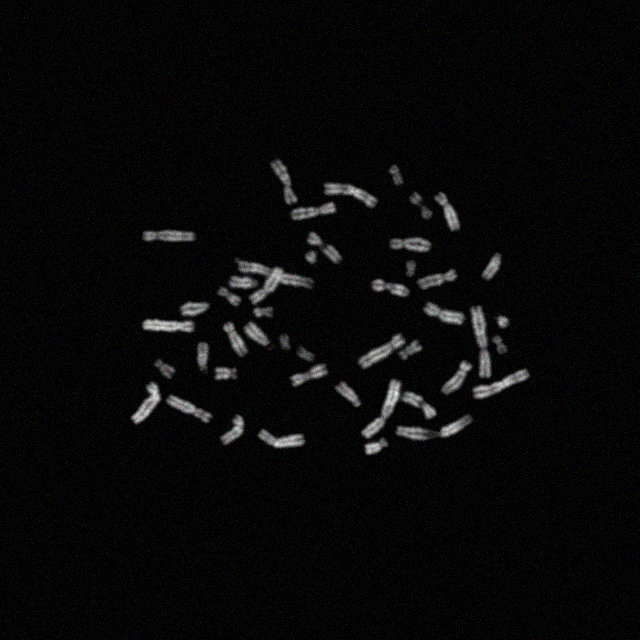chromosome: (362, 378, 401, 438), (394, 412, 474, 440), (236, 260, 314, 288), (473, 370, 529, 400), (325, 180, 379, 210), (358, 334, 402, 370), (471, 305, 491, 377), (270, 160, 298, 206), (130, 384, 162, 424), (167, 395, 211, 423), (251, 268, 281, 306), (440, 361, 470, 397), (436, 192, 462, 232), (424, 300, 466, 324), (289, 362, 327, 388), (402, 392, 436, 420), (416, 268, 456, 290), (259, 429, 305, 448), (142, 228, 193, 244), (140, 318, 195, 332), (371, 276, 409, 296), (292, 203, 336, 220), (224, 322, 246, 356), (408, 192, 434, 220), (220, 414, 244, 444), (242, 324, 270, 348), (391, 237, 431, 253), (482, 251, 503, 281), (336, 383, 360, 409), (150, 360, 175, 380), (218, 286, 240, 308), (398, 342, 424, 360), (195, 343, 210, 373), (182, 300, 210, 316), (228, 275, 256, 289), (216, 366, 237, 384), (296, 346, 314, 366), (365, 439, 387, 455), (494, 334, 508, 358), (323, 245, 342, 262), (387, 166, 403, 186), (252, 305, 274, 319), (404, 258, 416, 280), (278, 333, 292, 351), (306, 234, 326, 246), (496, 313, 510, 329), (303, 252, 317, 266)
